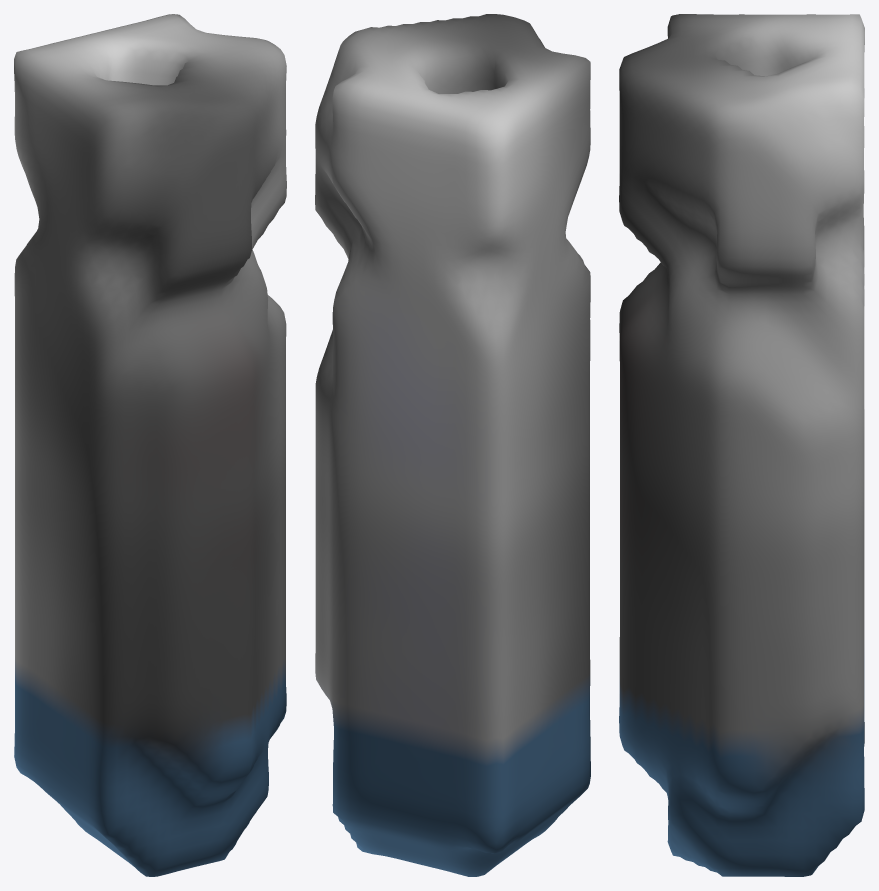
Rendered from kirov_bomb.glb.
3 renders of one model, left to right at view 1: azimuth 30°, elevation 25°; view 2: azimuth 150°, elevation 25°; view 3: azimuth 270°, elevation 25°, orthographic.
Parts seen in each view (by area): view 1: kirov_bomb; view 2: kirov_bomb; view 3: kirov_bomb.
Part boxes in pixels (x1,y1,x2,y2): kirov_bomb: (14,14,286,876); kirov_bomb: (315,14,590,876); kirov_bomb: (619,14,864,876).
Bounding box in the file's own units: 0.3425 × 1.21 × 0.3425.
